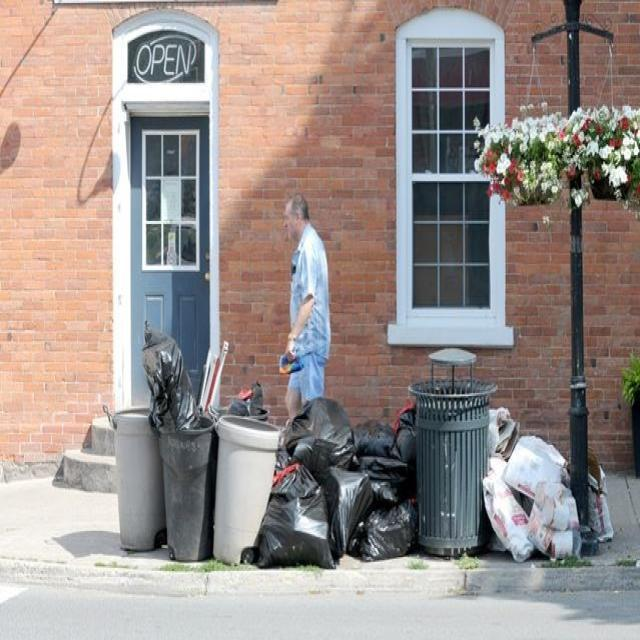Trashbag: (255, 450, 330, 574), (283, 388, 363, 467), (140, 327, 191, 440), (356, 498, 416, 566), (325, 459, 368, 553), (354, 406, 418, 460), (364, 447, 412, 506)
